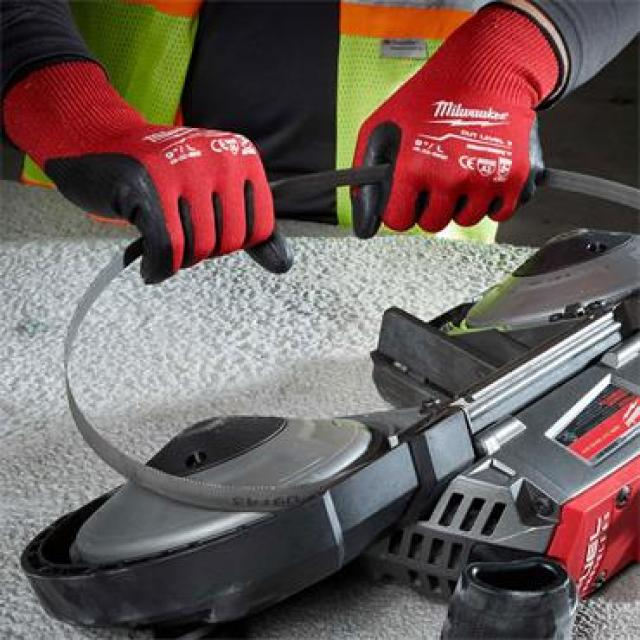gloves: (0, 43, 296, 287), (348, 2, 567, 240)
